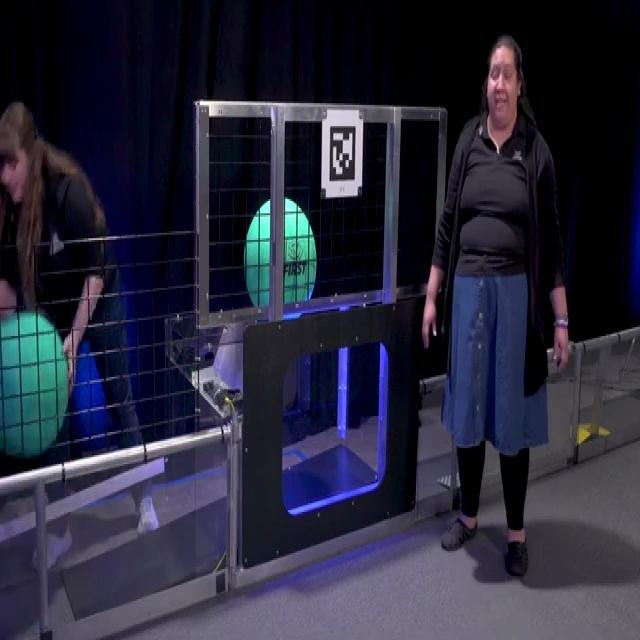Algae: (0, 309, 69, 459), (243, 195, 317, 308)
